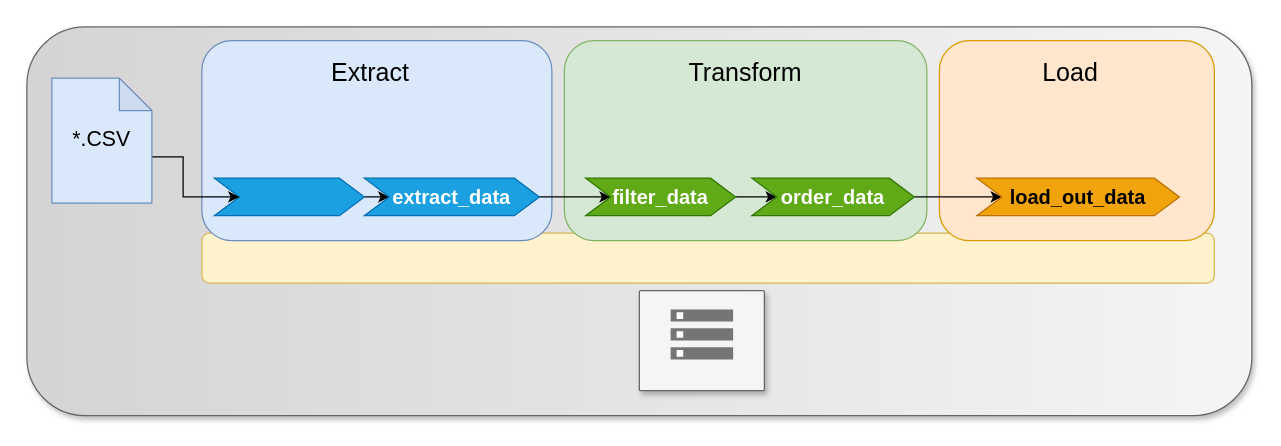
The diagram is 1281 pixels wide and 446 high, and some of its shapes have lost their labels. Each missing label, with the centre of its shape:
"load_data" belongs at pixel 288 196.
"Local Storage" belongs at pixel 702 341.
"Python" belongs at pixel 707 257.
